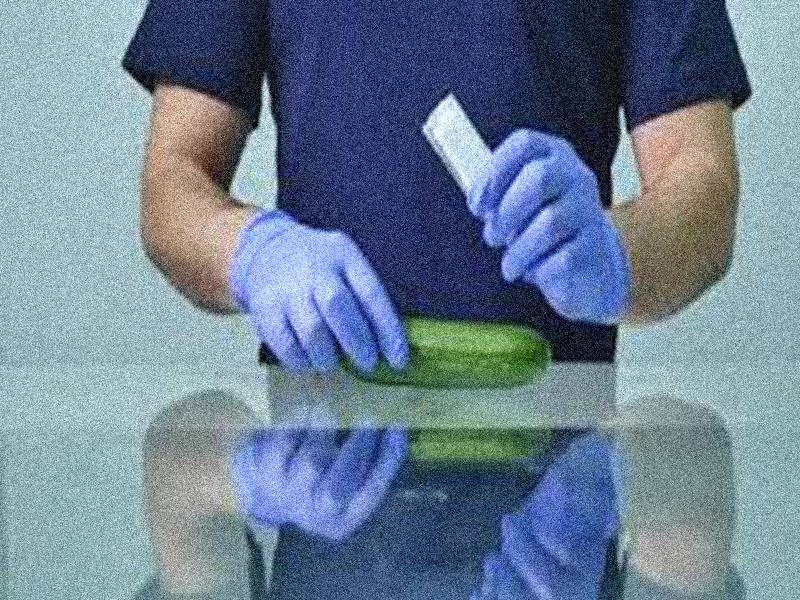Cucumber: (341, 318, 552, 389)
